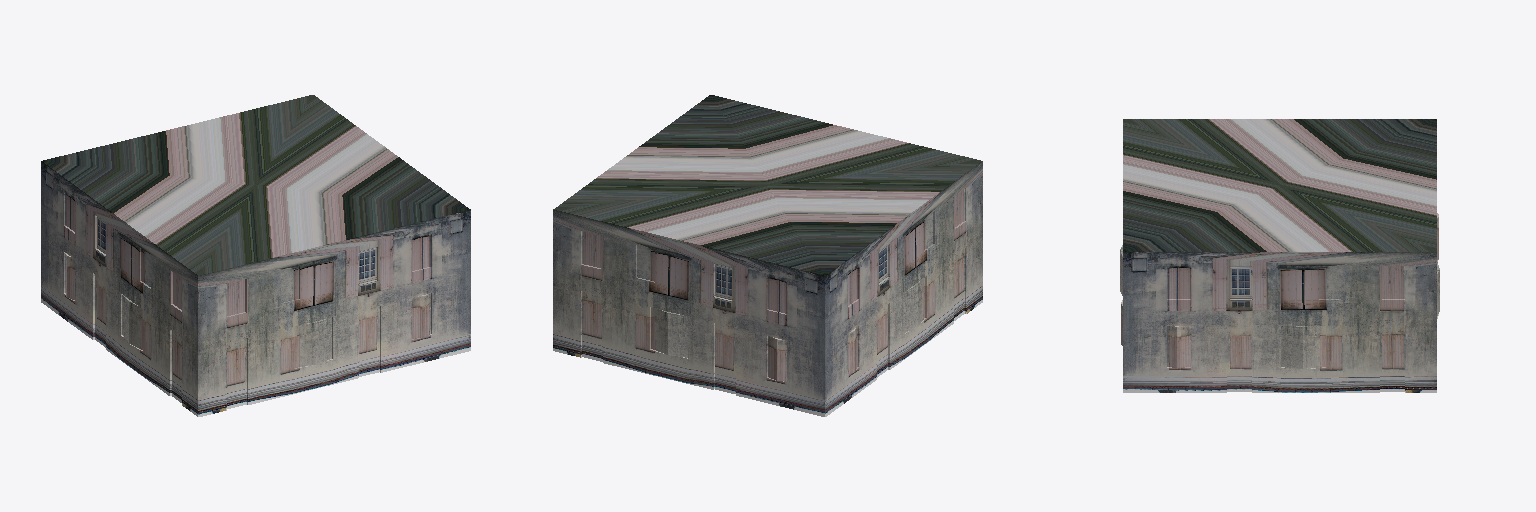
The picture shows the model from 3 angles: view 1: azimuth 30°, elevation 25°; view 2: azimuth 150°, elevation 25°; view 3: azimuth 270°, elevation 25°; orthographic projection.
Parts seen in each view (by area): view 1: dirt_house; view 2: dirt_house; view 3: dirt_house.
Part boxes in pixels (x1,y1,x2,y2): dirt_house: (41, 95, 470, 416); dirt_house: (553, 95, 982, 416); dirt_house: (1120, 119, 1439, 392).
Size of the model in its own units: 2570 by 1257 by 2570.
Materials: 1 (1 with a texture image).